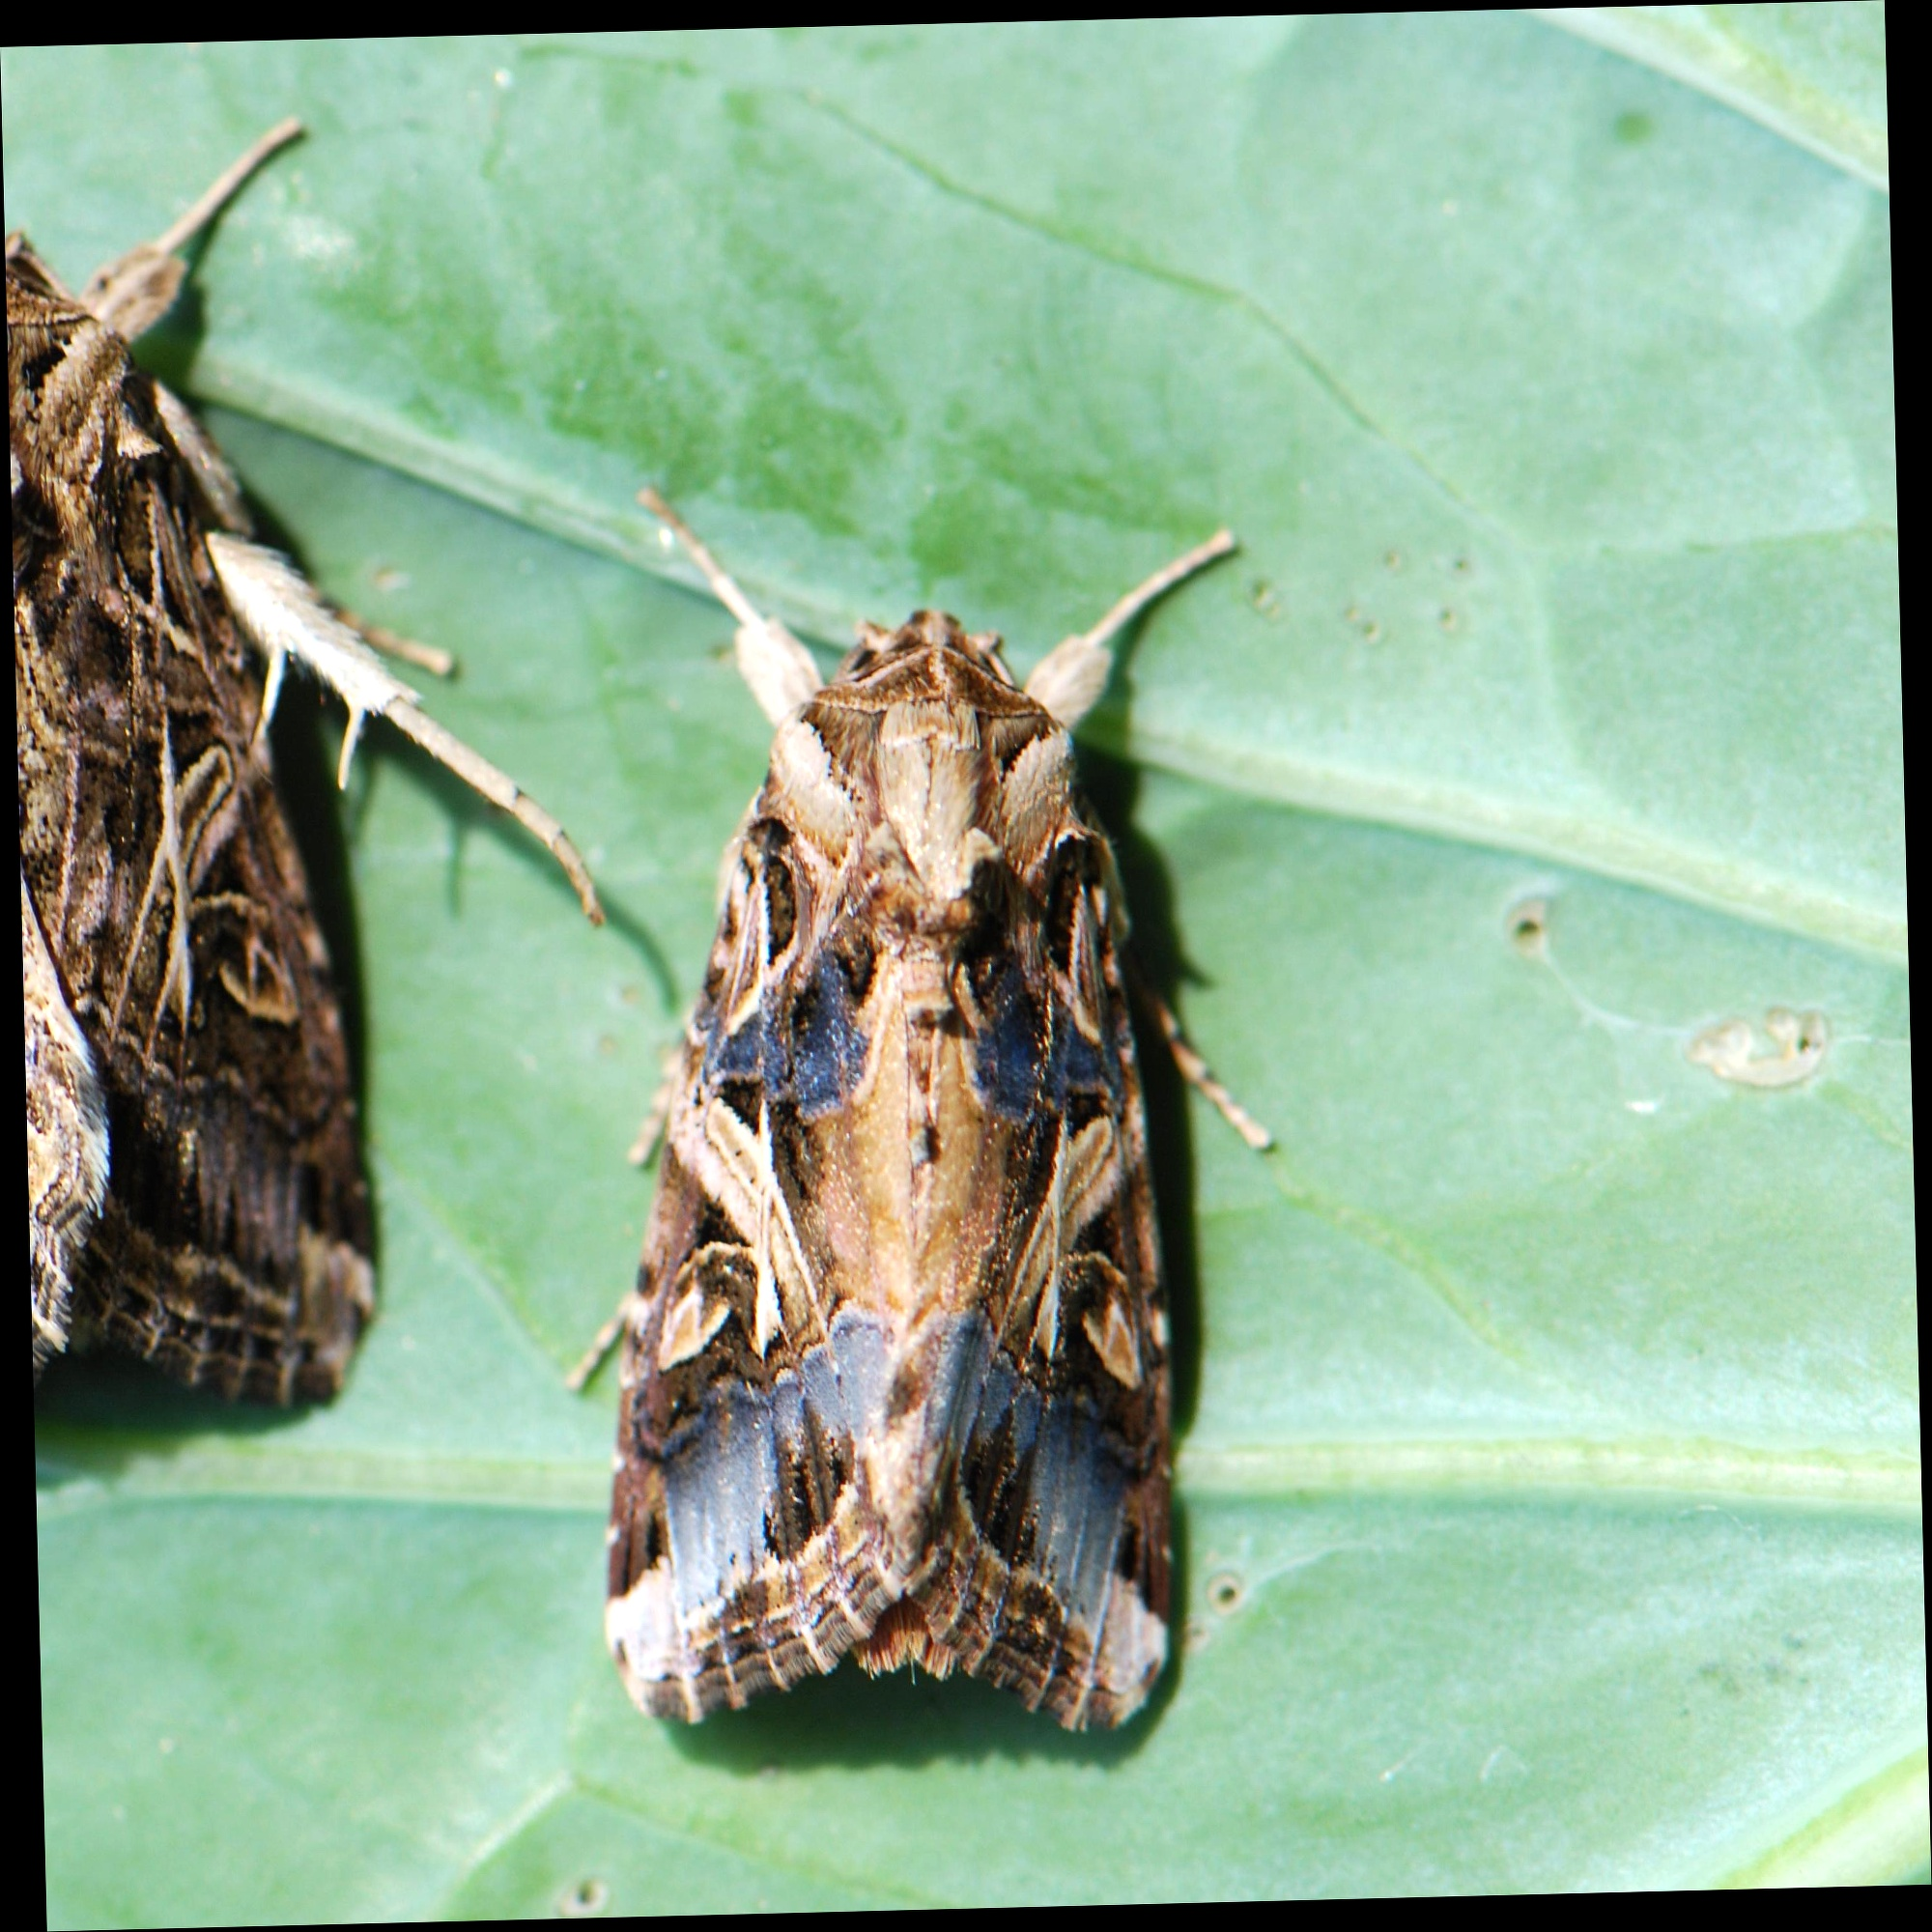Spodoptera litura: (559, 479, 1274, 1739), (19, 117, 602, 1414)
